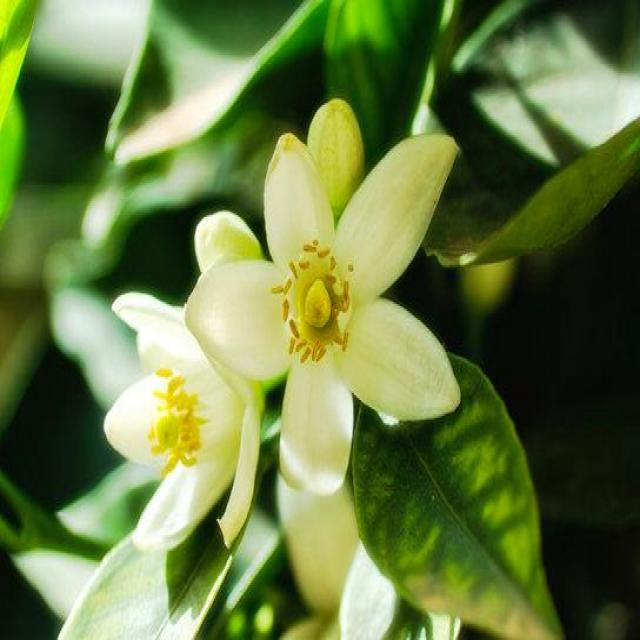Bunga: (185, 124, 470, 496), (102, 292, 256, 542), (188, 202, 266, 282), (308, 101, 366, 208)
